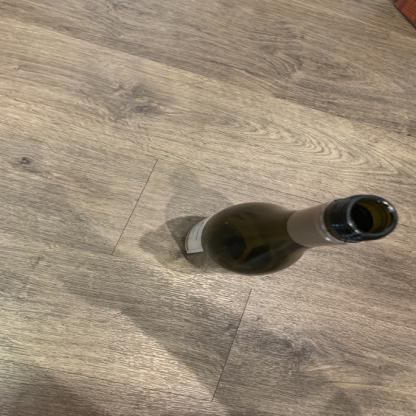trash: (178, 192, 399, 278)
